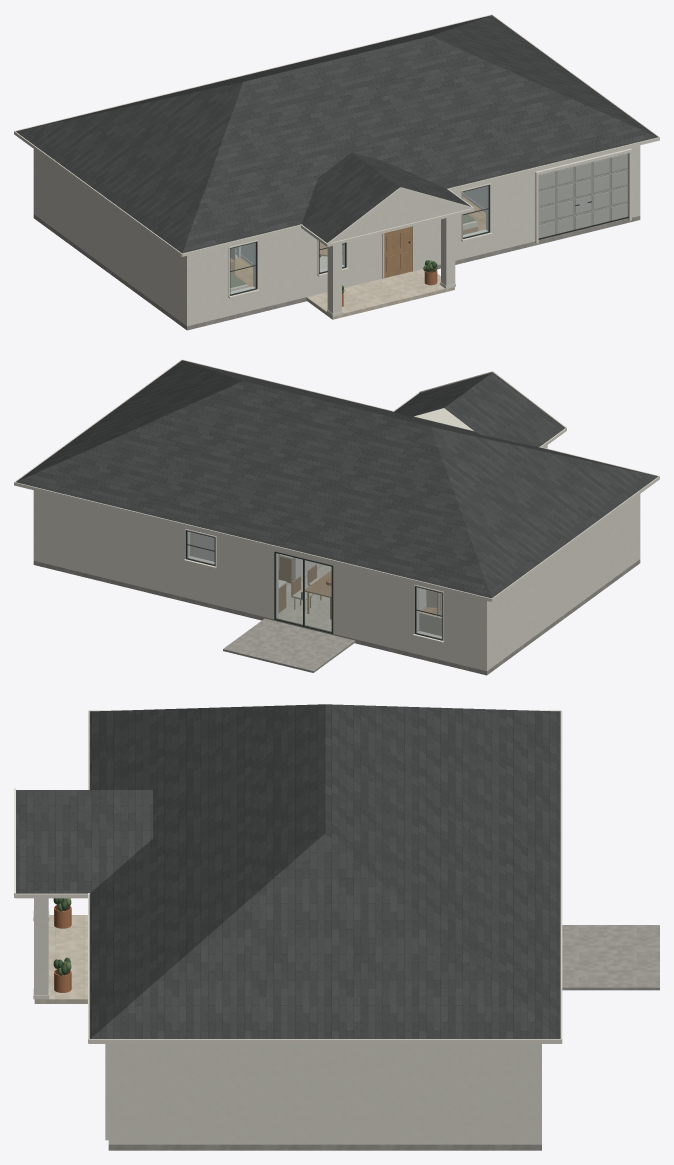
File: bell-plan-v3.glb
The picture shows the model from 3 angles, top to bottom: view 1: azimuth 30°, elevation 25°; view 2: azimuth 150°, elevation 25°; view 3: azimuth 270°, elevation 25°; orthographic projection. The views are drawn at different scales.
Parts seen in each view (by area): view 1: 90 Cubierta principal · ocultable, 10 Fachada delantera, 12 Fachada izquierda, Garaje · paneles seccionales y herrajes (×3), 92 Cubierta porche · ocultable, 91 Fascia principal · ocultable, 01 Porche de entrada, 93 Tímpano porche · ocultable, 41 Vidrios, 00 Losa principal, 50 Columnas porche, 45 Acceso principal (+3 smaller); view 2: 90 Cubierta principal · ocultable, 11 Fachada posterior, 12 Fachada izquierda, 92 Cubierta porche · ocultable, 41 Vidrios, 02 Patio posterior 10 × 8 pies, 91 Fascia principal · ocultable, 00 Losa principal, 03 Piso interior, 64 Comedor · mobiliario, 44 Puerta corrediza posterior, 65 Cocina · mobiliario (+4 smaller); view 3: 90 Cubierta principal · ocultable, 13 Fachada derecha, 92 Cubierta porche · ocultable, 02 Patio posterior 10 × 8 pies, 91 Fascia principal · ocultable, 00 Losa principal, 01 Porche de entrada, 50 Columnas porche, 71 Macetas de porche, 10 Fachada delantera, 11 Fachada posterior, 95 Fascia porche · ocultable.
Part boxes in pixels (bbox=[...]): 90 Cubierta principal · ocultable: bbox=[16, 15, 657, 253]; 10 Fachada delantera: bbox=[183, 145, 640, 326]; 12 Fachada izquierda: bbox=[37, 151, 183, 323]; Garaje · paneles seccionales y herrajes (×3): bbox=[535, 148, 631, 243]; 92 Cubierta porche · ocultable: bbox=[302, 152, 470, 242]; 91 Fascia principal · ocultable: bbox=[14, 14, 659, 256]; 01 Porche de entrada: bbox=[306, 269, 454, 319]; 93 Tímpano porche · ocultable: bbox=[332, 189, 469, 242]; 41 Vidrios: bbox=[230, 186, 488, 294]; 00 Losa principal: bbox=[33, 214, 640, 330]; 50 Columnas porche: bbox=[327, 216, 455, 316]; 45 Acceso principal: bbox=[382, 226, 413, 278]; 90 Cubierta principal · ocultable: bbox=[16, 360, 657, 598]; 11 Fachada posterior: bbox=[33, 490, 490, 671]; 12 Fachada izquierda: bbox=[490, 496, 636, 668]; 92 Cubierta porche · ocultable: bbox=[394, 372, 564, 447]; 41 Vidrios: bbox=[187, 531, 441, 638]; 02 Patio posterior 10 × 8 pies: bbox=[223, 618, 355, 672]; 91 Fascia principal · ocultable: bbox=[14, 359, 659, 601]; 00 Losa principal: bbox=[33, 559, 640, 675]; 03 Piso interior: bbox=[277, 565, 331, 631]; 64 Comedor · mobiliario: bbox=[291, 564, 331, 619]; 44 Puerta corrediza posterior: bbox=[274, 551, 333, 633]; 65 Cocina · mobiliario: bbox=[190, 532, 292, 612]; 90 Cubierta principal · ocultable: bbox=[89, 704, 560, 1038]; 13 Fachada derecha: bbox=[118, 1044, 531, 1144]; 92 Cubierta porche · ocultable: bbox=[16, 790, 152, 893]; 02 Patio posterior 10 × 8 pies: bbox=[562, 925, 659, 990]; 91 Fascia principal · ocultable: bbox=[88, 710, 562, 1043]; 00 Losa principal: bbox=[108, 1144, 541, 1150]; 01 Porche de entrada: bbox=[34, 915, 87, 1003]; 50 Columnas porche: bbox=[33, 898, 49, 999]; 71 Macetas de porche: bbox=[53, 898, 71, 992]; 10 Fachada delantera: bbox=[108, 1044, 118, 1144]; 11 Fachada posterior: bbox=[532, 1044, 541, 1144]; 95 Fascia porche · ocultable: bbox=[14, 788, 89, 898].
Bounding box in the file's own units: 16.08 × 5.14 × 13.33.
Materials: 34 (13 with a texture image).
